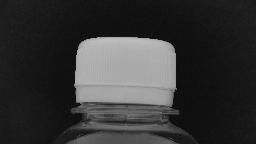Good Cap: (67, 33, 181, 119)
